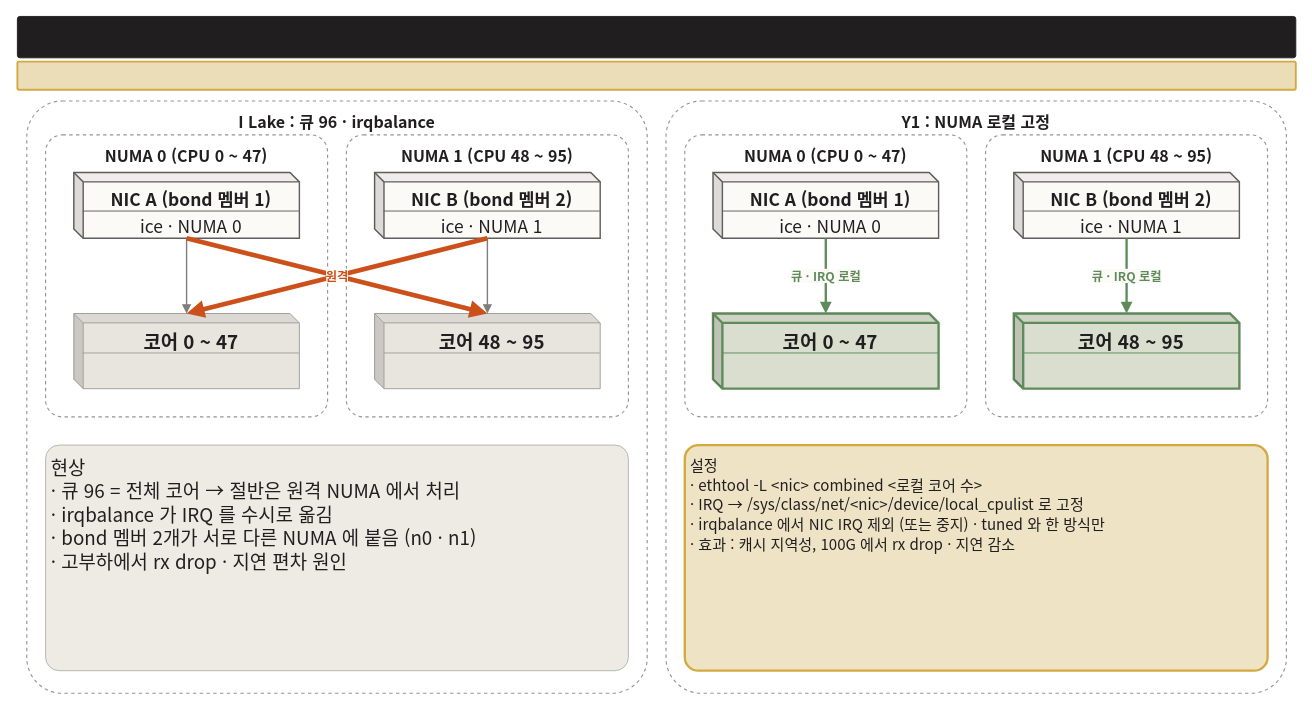
Some shapes in this 1312 by 711 pixel diagram are drawn without their labels. The shapes that lost their labels are listed below. From the top down, each one's centre as x and y in pixels, then its label:
At [656,37]: "그림 6-2. NIC 큐 · IRQ 배치 : 전체 코어 96 → NUMA 로컬".
At [656,75]: "NIC 이 붙은 NUMA 의 코어가 그 NIC 의 인터럽트 · 패킷 처리를 맡아야 원격 메모리 접근이 없음".
